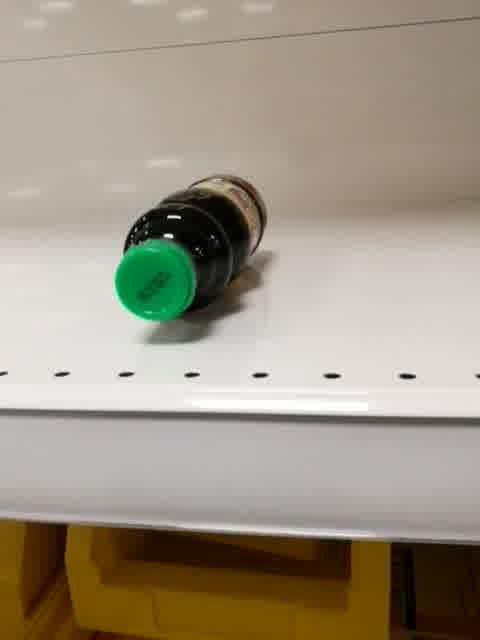cookingoil: (110, 169, 272, 323)
